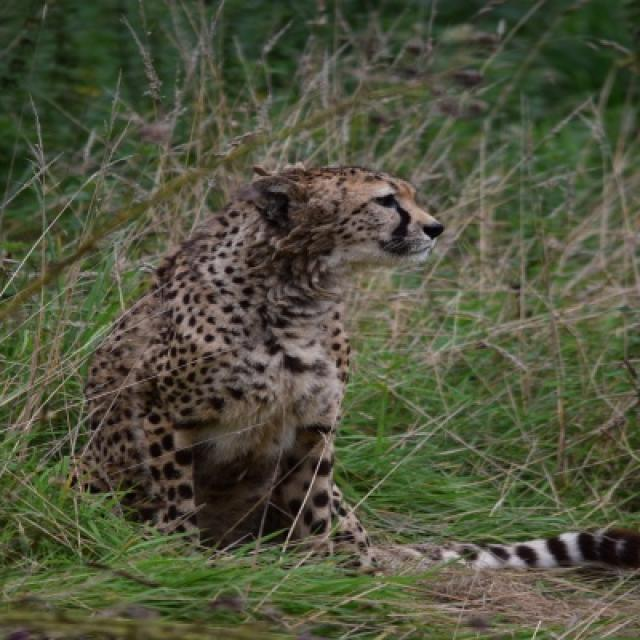Cheetah: (62, 156, 638, 569)
